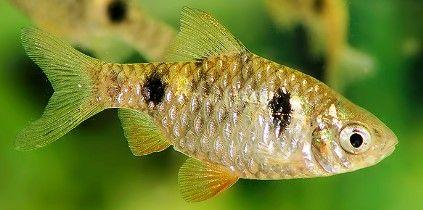Black Spotted Barb: (13, 6, 398, 204)
